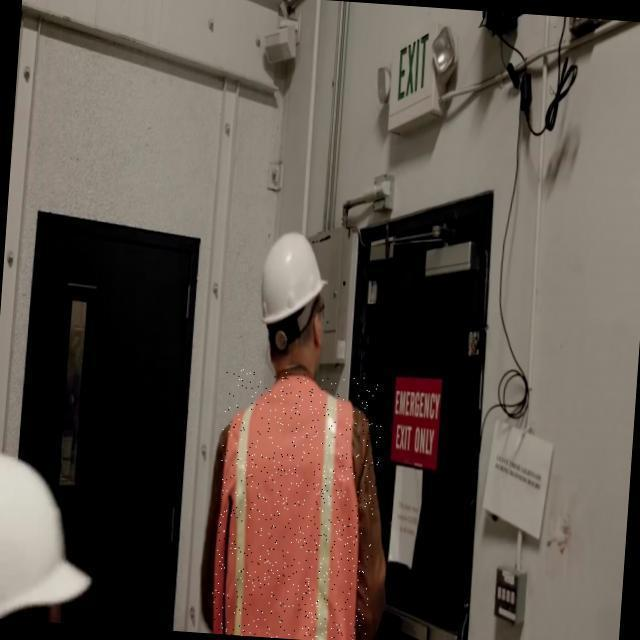safety_helmet: (208, 368, 384, 640)
